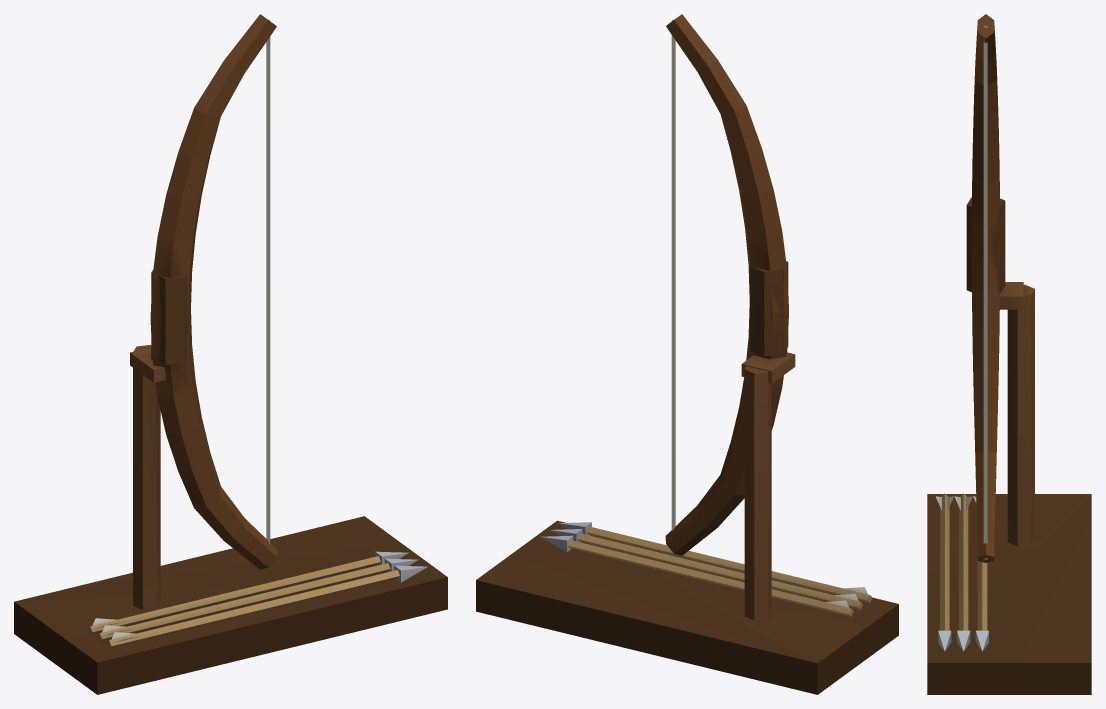
3 views of the same model, side by side, from view 1: azimuth 30°, elevation 25°; view 2: azimuth 150°, elevation 25°; view 3: azimuth 270°, elevation 25° (orthographic). The views are drawn at different scales.
Parts seen in each view (by area): view 1: base; view 2: base; view 3: base.
Boxes of the visible parts, x1,y1,x2,y2 form: base: [14, 14, 447, 694]; base: [476, 14, 898, 694]; base: [927, 14, 1091, 694].
Bounding box in the file's own units: 0.34 × 0.5677 × 0.14.
